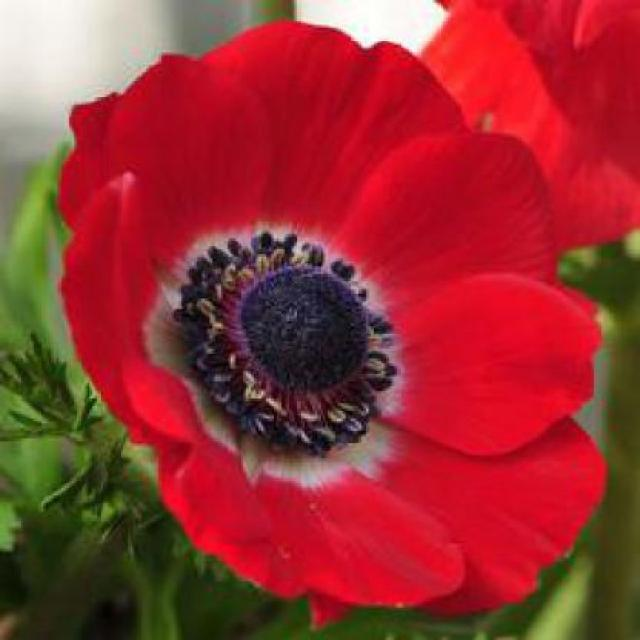Flower: (56, 19, 610, 630), (174, 231, 400, 458)
